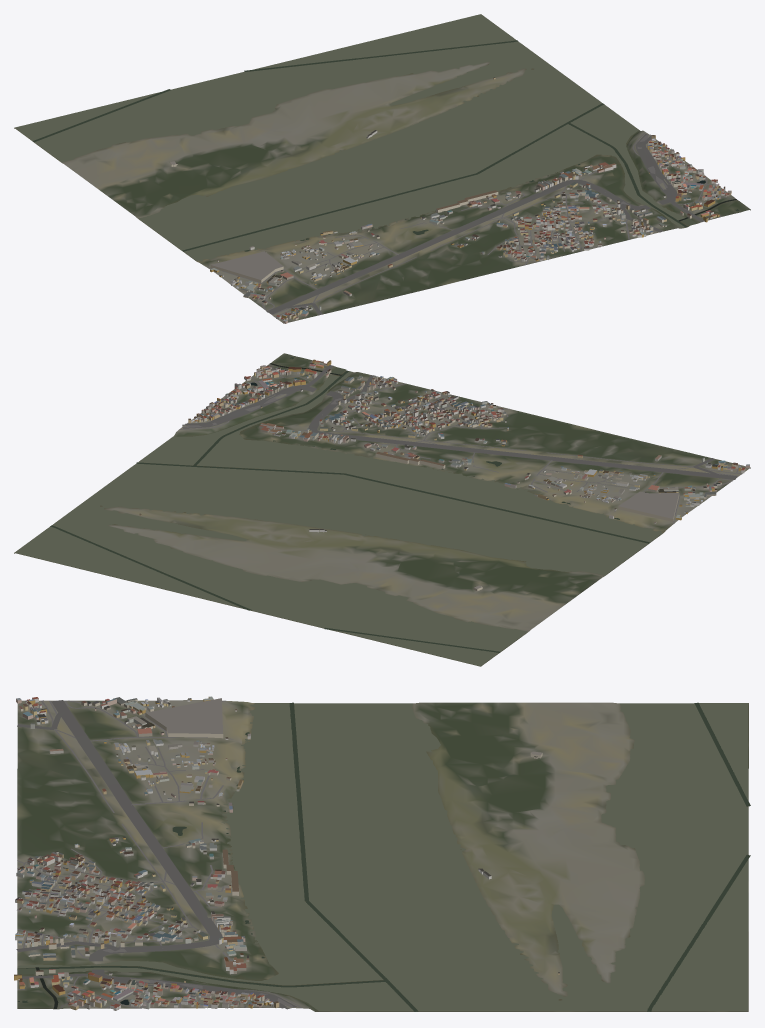
The picture shows the model from 3 angles, top to bottom: view 1: azimuth 30°, elevation 25°; view 2: azimuth 150°, elevation 25°; view 3: azimuth 270°, elevation 25°; orthographic projection. The views are drawn at different scales.
Visible parts, largest first — view 1: water, ground, buildings, roads; view 2: water, ground, buildings, roads; view 3: water, ground, buildings, roads.
Part boxes in pixels (x1,y1,x2,y2): water: (15, 14, 739, 261); ground: (14, 14, 750, 323); buildings: (170, 77, 731, 323); roads: (207, 132, 734, 319); water: (15, 356, 662, 666); ground: (14, 353, 750, 666); buildings: (139, 359, 749, 591); roads: (179, 361, 741, 523); water: (17, 702, 750, 1011); ground: (17, 700, 748, 1011); buildings: (14, 696, 559, 1010); roads: (16, 700, 301, 1009).
Size of the model in its own units: 1419 by 22.91 by 1413.
